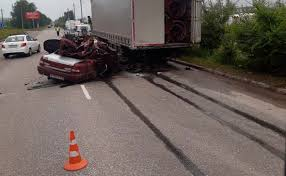car: (33, 29, 125, 96)
